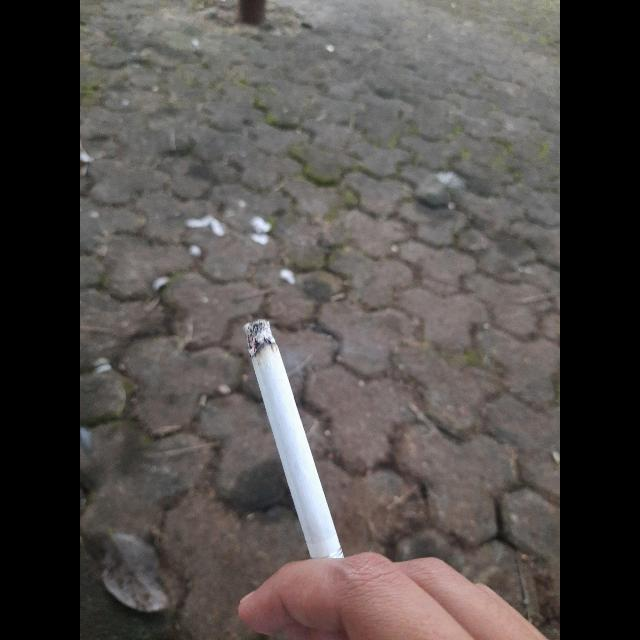rokok: (244, 314, 346, 560)
